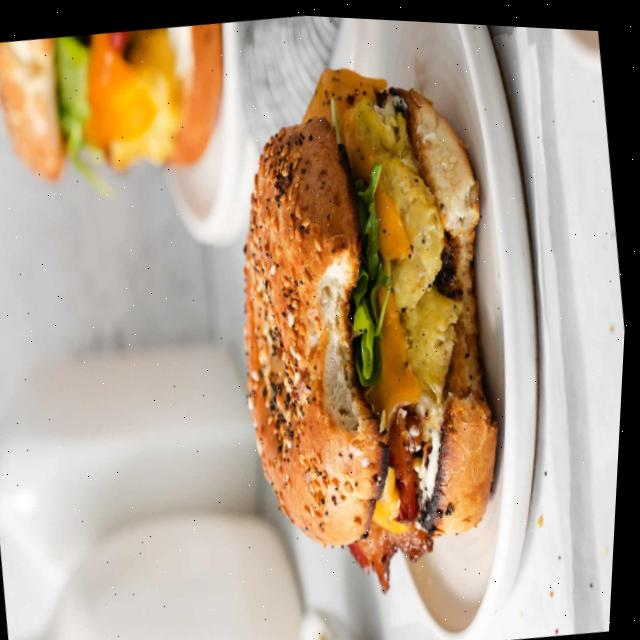Bagel: (247, 114, 392, 542), (388, 82, 502, 530)
